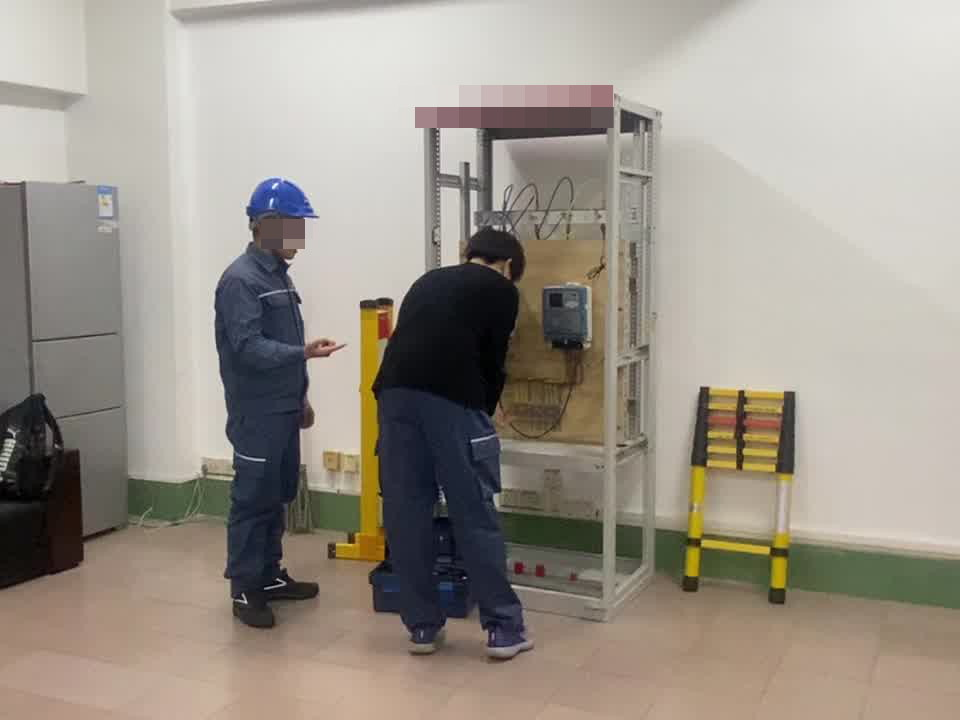downsuit: (373, 401, 521, 636), (223, 420, 302, 591)
halt: (244, 176, 318, 259)
hand: (305, 336, 347, 360)
inear: (253, 210, 284, 254)
person: (368, 225, 543, 662), (212, 176, 326, 630)
unhalt: (463, 229, 526, 281)
upcloth: (368, 265, 521, 399)
upsuit: (215, 254, 314, 415)
